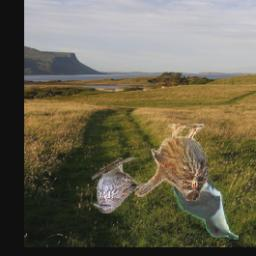Cuckoo: (165, 151, 240, 241)
Sparrow: (134, 124, 209, 201), (93, 157, 154, 213)
